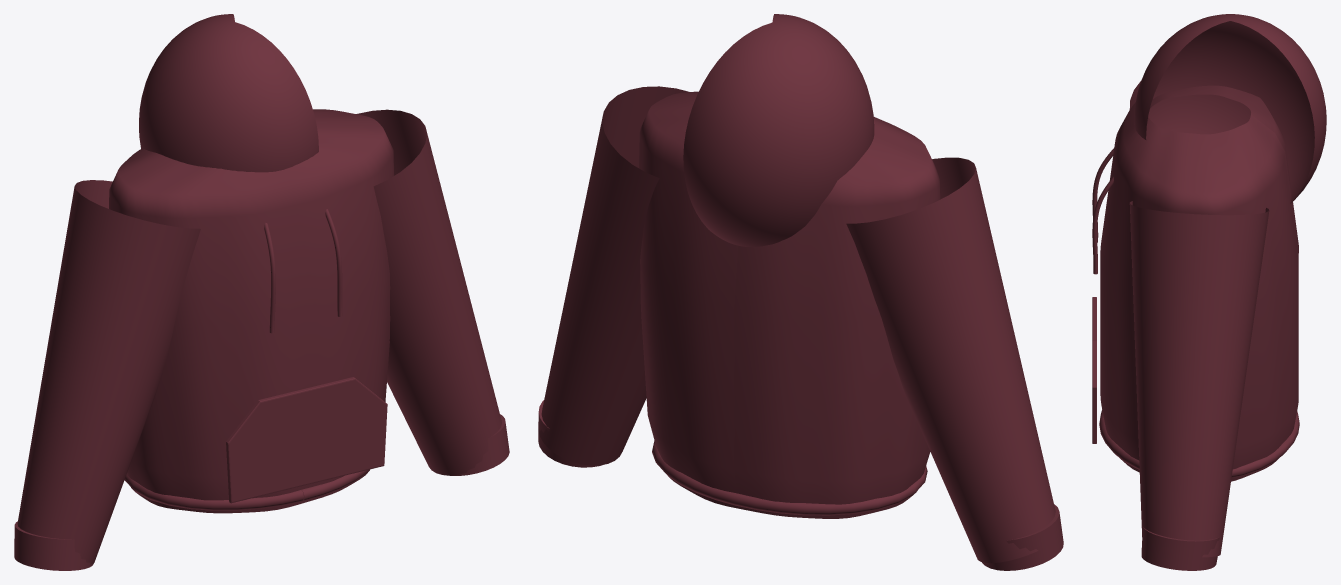
File: hoodie-bordeaux-femme.glb
3 renders of one model, left to right at view 1: azimuth 30°, elevation 25°; view 2: azimuth 150°, elevation 25°; view 3: azimuth 270°, elevation 25°, orthographic. The views are drawn at different scales.
Visible parts, largest first — view 1: hoodie-bordeaux, long-sleeve (×2); view 2: hoodie-bordeaux, long-sleeve (×2); view 3: hoodie-bordeaux, long-sleeve.
Part boxes in pixels (bbox=[...]): hoodie-bordeaux: bbox=[14, 14, 509, 570]; long-sleeve (×2): bbox=[17, 109, 501, 564]; hoodie-bordeaux: bbox=[538, 14, 1063, 570]; long-sleeve (×2): bbox=[538, 86, 1055, 563]; hoodie-bordeaux: bbox=[1092, 14, 1326, 570]; long-sleeve: bbox=[1129, 201, 1269, 557].
Size of the model in its own units: 0.7702 by 0.7203 by 0.341.
